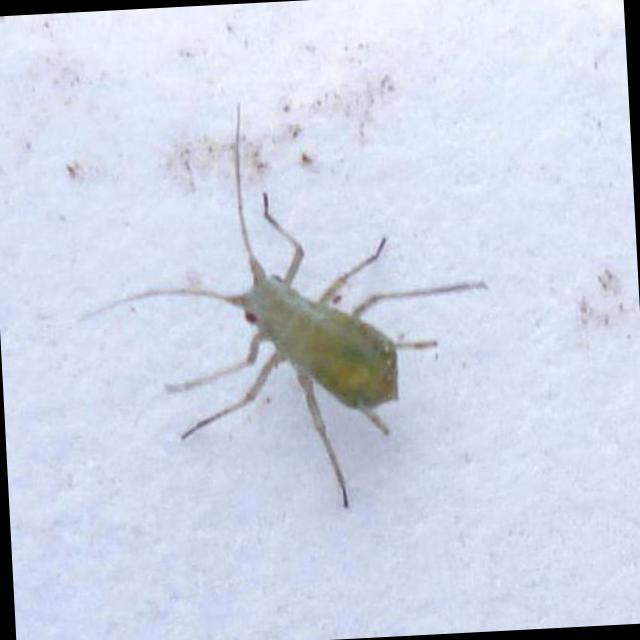aphid: (112, 140, 496, 503)
